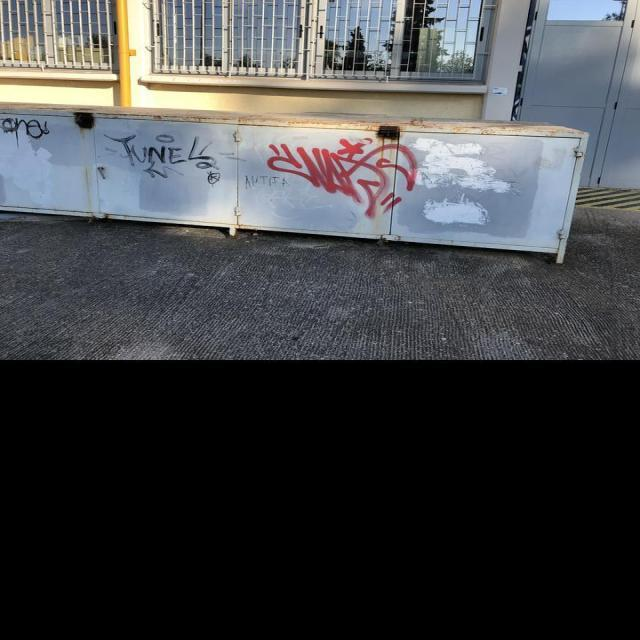nonspitting: (266, 136, 418, 220), (106, 134, 247, 186), (1, 116, 50, 146), (244, 174, 288, 188)
